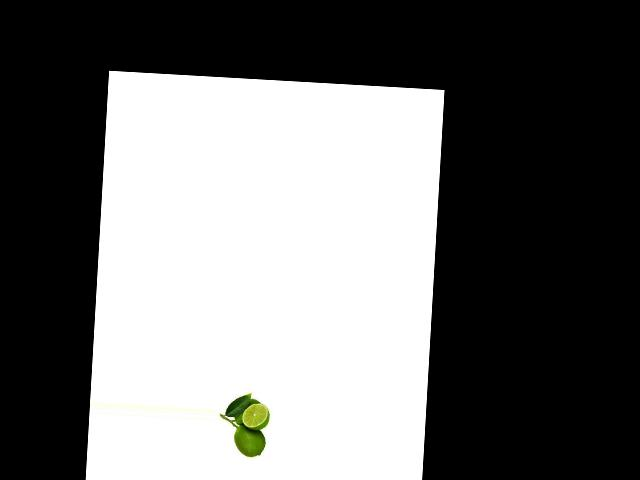lemon: (230, 395, 262, 425)
